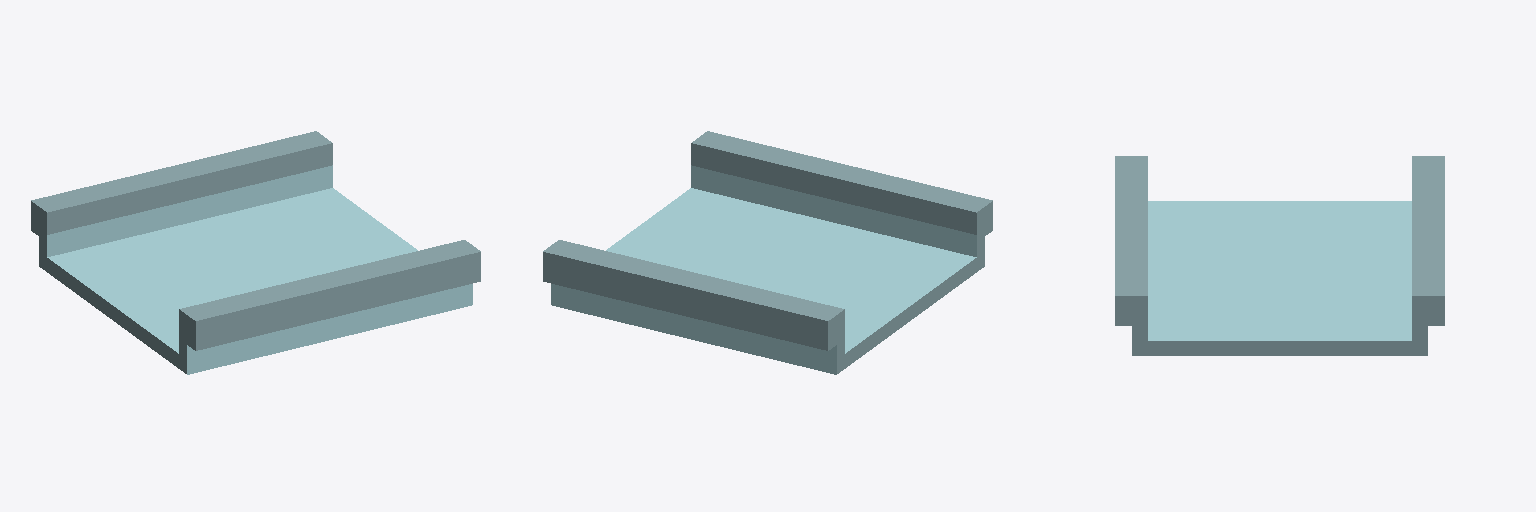
Rendered from bridge_center_stoneRound.obj.
3 renders of one model, left to right at view 1: azimuth 30°, elevation 25°; view 2: azimuth 150°, elevation 25°; view 3: azimuth 270°, elevation 25°, orthographic.
Visible parts, largest first — view 1: bridge_center_stoneRound; view 2: bridge_center_stoneRound; view 3: bridge_center_stoneRound.
Part boxes in pixels (x1,y1,x2,y2): bridge_center_stoneRound: (31,131,480,374); bridge_center_stoneRound: (543,131,992,374); bridge_center_stoneRound: (1115,156,1444,355).
Size of the model in its own units: 1 by 0.2 by 1.